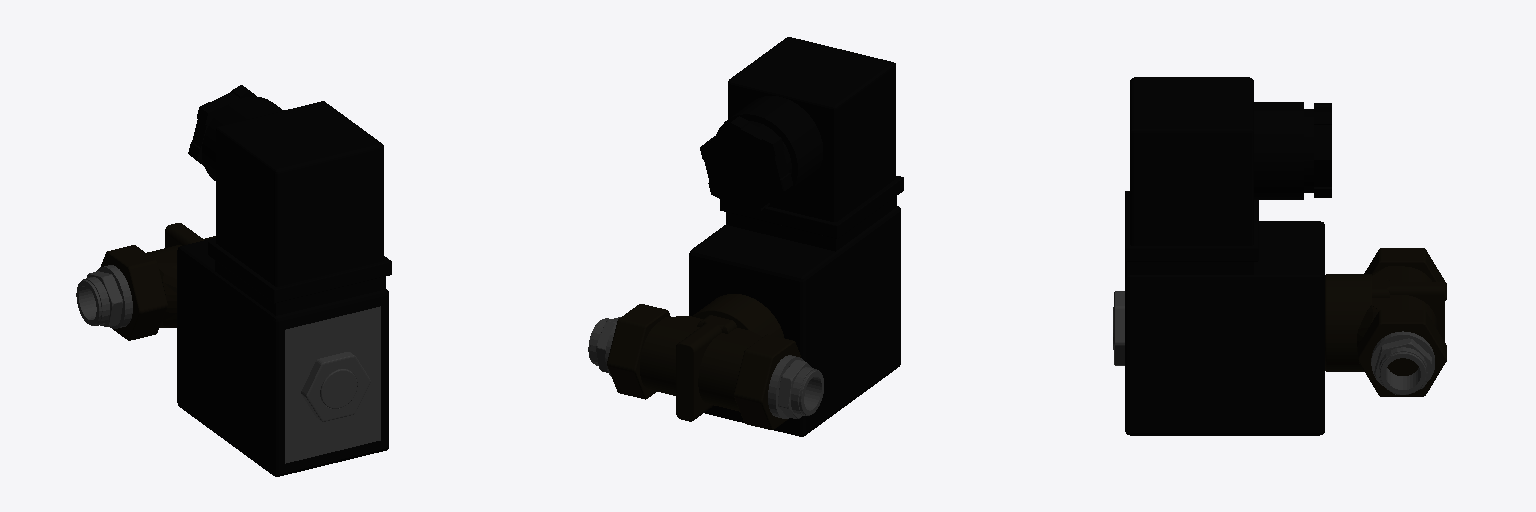
Rendered from plc.obj.
3 views of the same model, side by side, from view 1: azimuth 30°, elevation 25°; view 2: azimuth 150°, elevation 25°; view 3: azimuth 270°, elevation 25° (orthographic).
Parts seen in each view (by area): view 1: PLC1.023_plc1.020, Cube.032_Cube.048, Cylinder.063_Cylinder.086; view 2: PLC1.023_plc1.020, Cube.032_Cube.048, Cylinder.063_Cylinder.086, Cylinder.062_Cylinder.085; view 3: PLC1.023_plc1.020, Cube.032_Cube.048, Cylinder.062_Cylinder.085.
Boxes of the visible parts, box(x1,y1,x2,y2) form: PLC1.023_plc1.020: box(177, 85, 391, 476); Cube.032_Cube.048: box(101, 223, 215, 340); Cylinder.063_Cylinder.086: box(76, 265, 132, 328); PLC1.023_plc1.020: box(689, 37, 903, 436); Cube.032_Cube.048: box(607, 294, 800, 429); Cylinder.063_Cylinder.086: box(768, 355, 823, 418); Cylinder.062_Cylinder.085: box(588, 317, 620, 376); PLC1.023_plc1.020: box(1113, 77, 1331, 435); Cube.032_Cube.048: box(1325, 248, 1446, 396); Cylinder.062_Cylinder.085: box(1371, 331, 1434, 394).
Size of the model in its own units: 0.5549 by 0.76 by 0.7526.